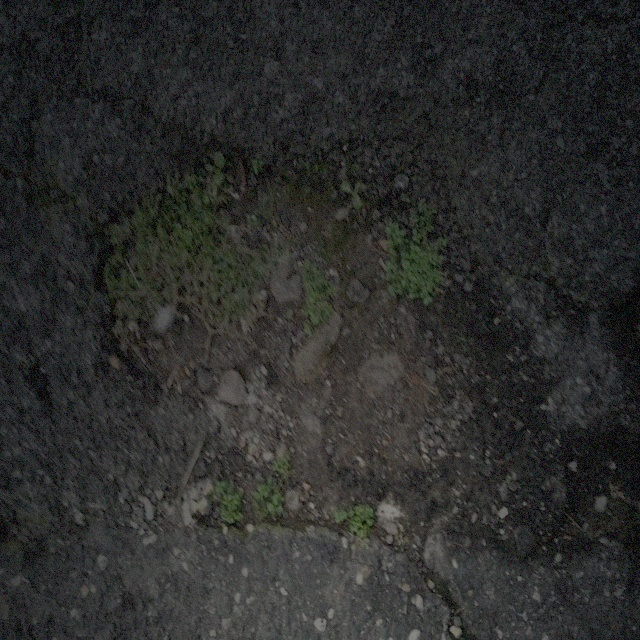pothole: (96, 124, 548, 570)
